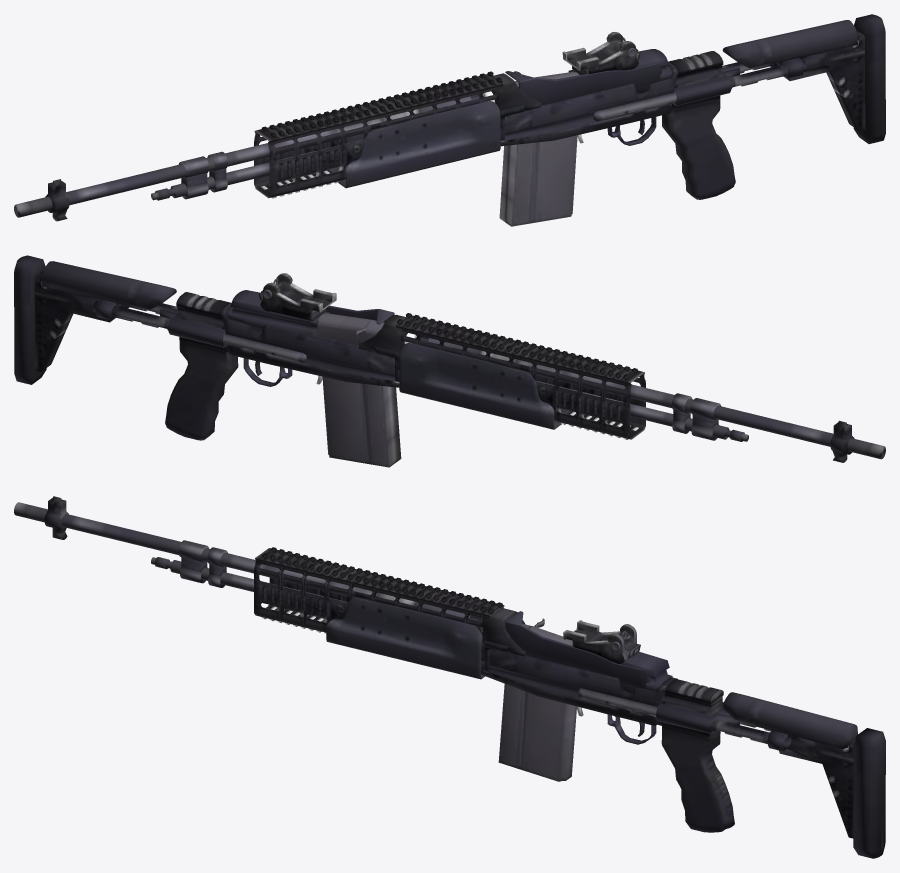
Rendered from mk14-ebr.glb.
3 views of the same model, one above another, from view 1: azimuth 30°, elevation 25°; view 2: azimuth 150°, elevation 25°; view 3: azimuth 330°, elevation 25° (orthographic).
Parts seen in each view (by area): view 1: Cube, Cube.001, Cube.003, Cube.008, Cube.002, Cylinder.005, Cube.014, Cube.012, Cube.007, Cube.015, Cube.009, Cylinder.001 (+9 smaller); view 2: Cube, Cube.001, Cube.003, Cube.008, Cube.002, Cylinder.005, Cube.014, Cube.012, Cube.015, Cube.009, Cylinder.001, Cube.004 (+10 smaller); view 3: Cube, Cube.001, Cube.003, Cube.008, Cube.002, Cube.015, Cylinder.005, Cube.014, Cube.007, Cube.012, Cube.009, Cylinder.001 (+8 smaller).
Part boxes in pixels (x1,y1,x2,y2): Cube: [254, 74, 504, 198]; Cube.001: [338, 94, 500, 188]; Cube.003: [662, 51, 735, 199]; Cube.008: [499, 135, 577, 226]; Cube.002: [500, 69, 677, 146]; Cylinder.005: [14, 96, 471, 217]; Cube.014: [722, 20, 857, 68]; Cube.012: [776, 30, 865, 131]; Cube.007: [505, 63, 661, 105]; Cube.015: [853, 14, 885, 143]; Cube.009: [261, 71, 502, 138]; Cylinder.001: [562, 32, 640, 74]; Cube: [395, 315, 645, 439]; Cube.001: [399, 336, 561, 429]; Cube.003: [165, 292, 238, 440]; Cube.008: [322, 376, 401, 467]; Cube.002: [222, 311, 399, 387]; Cylinder.005: [428, 338, 885, 459]; Cube.014: [41, 261, 176, 309]; Cube.012: [34, 271, 122, 371]; Cube.015: [14, 255, 46, 384]; Cube.009: [396, 313, 638, 380]; Cylinder.001: [259, 273, 336, 320]; Cube.004: [227, 290, 329, 336]; Cube: [254, 548, 504, 670]; Cube.001: [326, 597, 484, 679]; Cube.003: [657, 677, 734, 832]; Cube.008: [498, 684, 576, 781]; Cube.002: [481, 648, 677, 725]; Cube.015: [853, 728, 885, 858]; Cylinder.005: [14, 502, 472, 622]; Cube.014: [723, 692, 857, 748]; Cube.007: [505, 611, 650, 688]; Cube.012: [771, 730, 855, 838]; Cube.009: [261, 547, 503, 614]; Cylinder.001: [563, 620, 640, 663].
Size of the model in its own units: 1960 by 385 by 101.
Materials: 2 (1 with a texture image).
